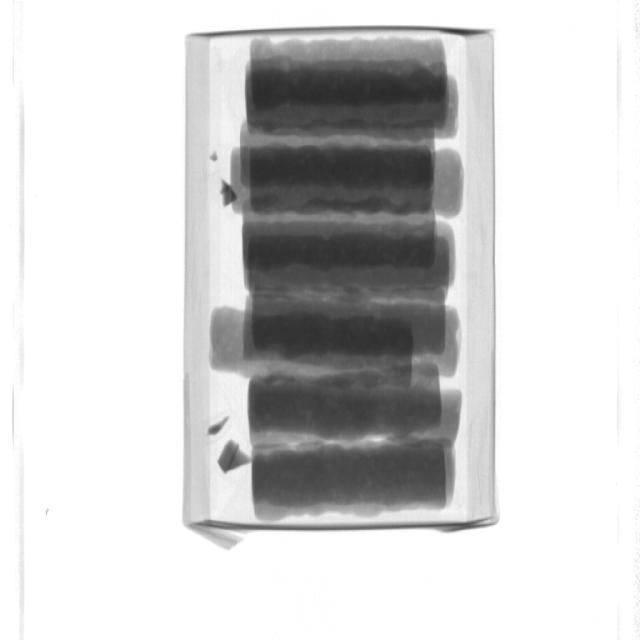ym: (219, 442, 251, 476), (220, 178, 238, 211), (208, 418, 228, 434), (210, 153, 220, 163)
